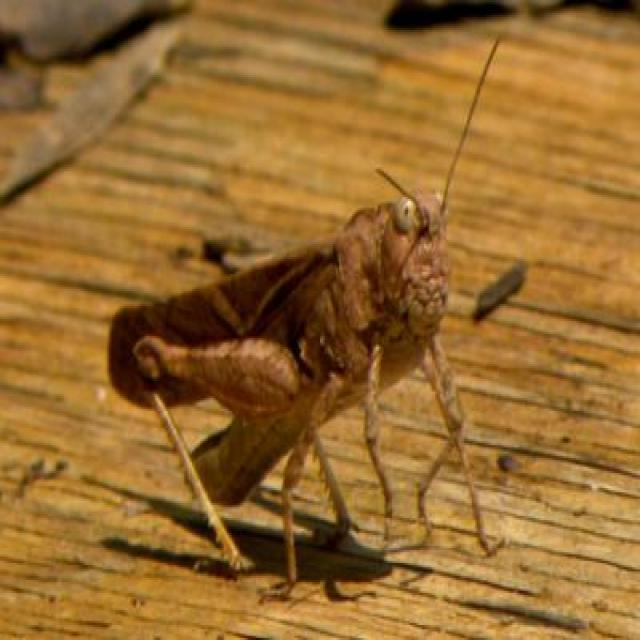antennae: (442, 35, 504, 213), (377, 168, 428, 214)
body: (194, 194, 446, 502)
insect: (107, 34, 503, 596)
legs: (132, 334, 305, 568), (259, 364, 353, 591), (422, 345, 505, 554), (411, 323, 466, 544), (362, 332, 394, 549), (307, 427, 353, 530)
mouthpart: (414, 212, 445, 249)
wings: (110, 236, 346, 409)
